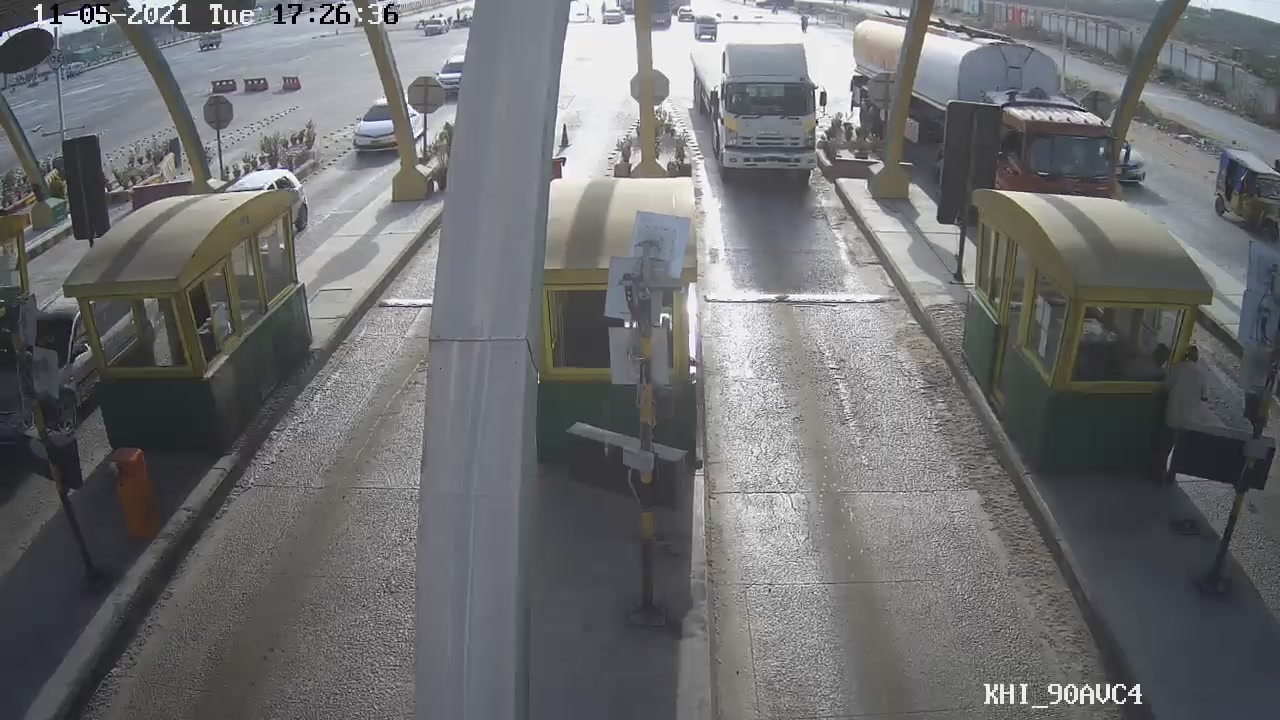F6: (690, 34, 832, 189)
